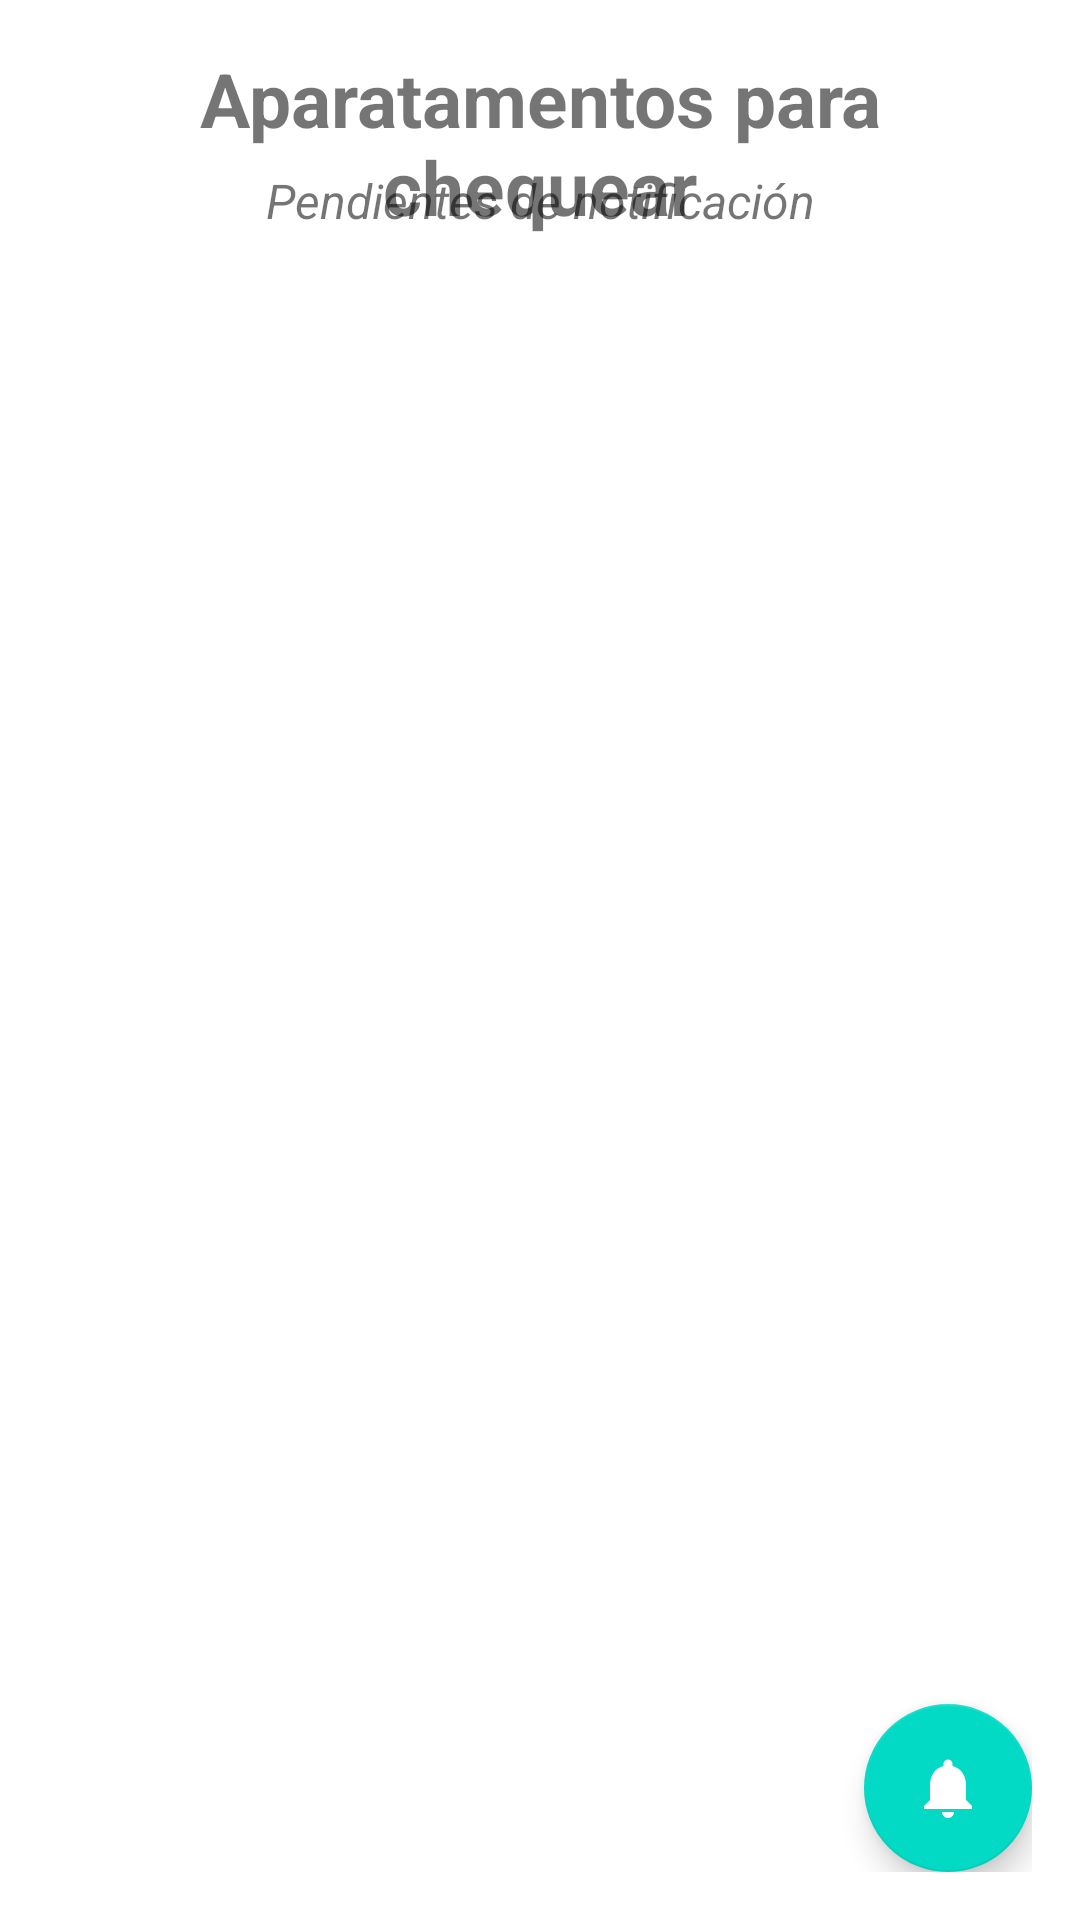

Icons on this 1080px×1920px Android screen, each with the point to tap as point (x, y):
notify: point (948, 1788)
